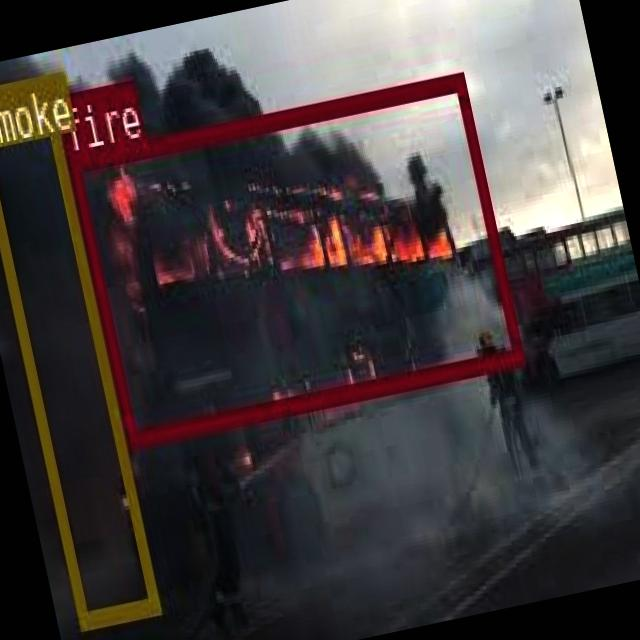fire: (64, 70, 522, 446)
smoke: (0, 74, 157, 625)
